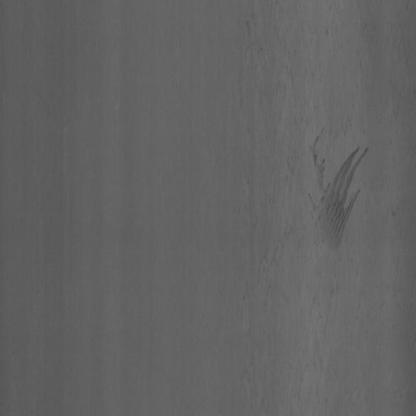water_spot: (308, 125, 373, 255)
